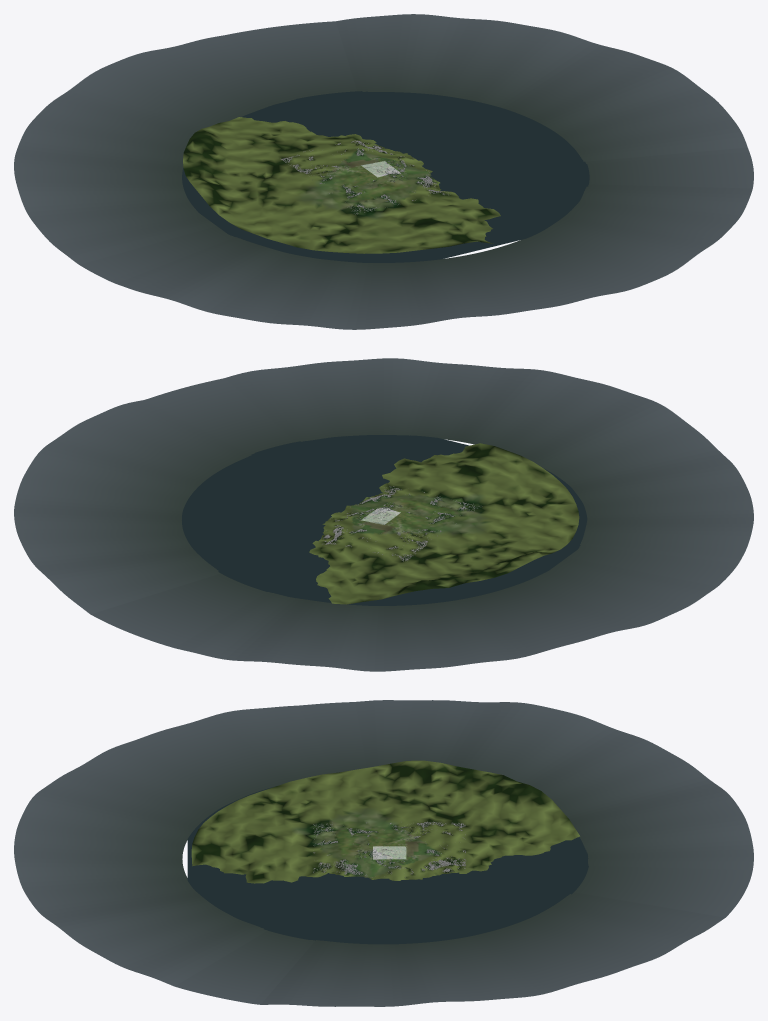
File: byneset_south_05.gltf
3 renders of one model, top to bottom at view 1: azimuth 30°, elevation 25°; view 2: azimuth 150°, elevation 25°; view 3: azimuth 270°, elevation 25°, orthographic.
Parts seen in each view (by area): view 1: FAR_Horizon, SURF_Far, WATER_Sea, FAR_Trees; view 2: FAR_Horizon, SURF_Far, WATER_Sea, FAR_Trees; view 3: FAR_Horizon, SURF_Far, WATER_Sea, FAR_Trees.
Boxes of the visible parts, x1,y1,x2,y2 form: FAR_Horizon: [14, 14, 753, 329]; SURF_Far: [183, 117, 500, 253]; WATER_Sea: [182, 91, 589, 262]; FAR_Trees: [281, 140, 448, 214]; FAR_Horizon: [14, 358, 753, 671]; SURF_Far: [309, 443, 579, 604]; WATER_Sea: [182, 435, 587, 605]; FAR_Trees: [322, 486, 482, 561]; FAR_Horizon: [14, 700, 753, 1006]; SURF_Far: [191, 760, 579, 883]; WATER_Sea: [187, 786, 588, 944]; FAR_Trees: [313, 821, 466, 877].
Size of the model in its own units: 11200 by 273 by 11200.
